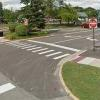Crosswalk: (12, 34, 84, 66)
